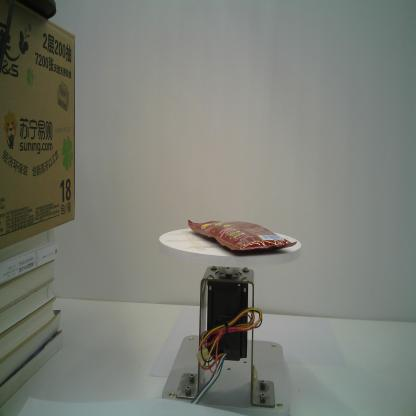Candy: (187, 217, 297, 254)
